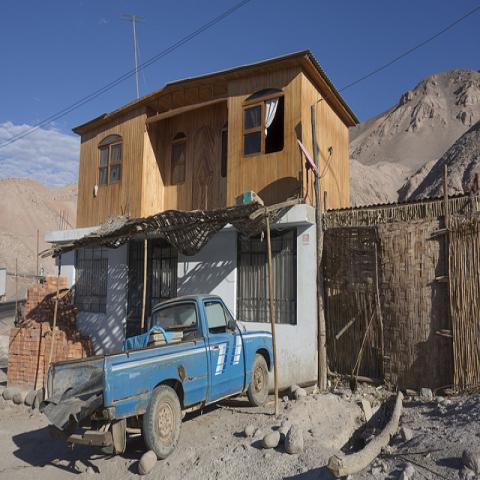truck: (45, 294, 278, 457)
